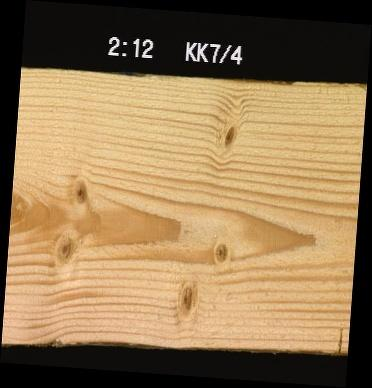sound_knot: (51, 232, 74, 265), (176, 277, 195, 313), (220, 120, 235, 150), (210, 240, 228, 264), (71, 175, 87, 201)
